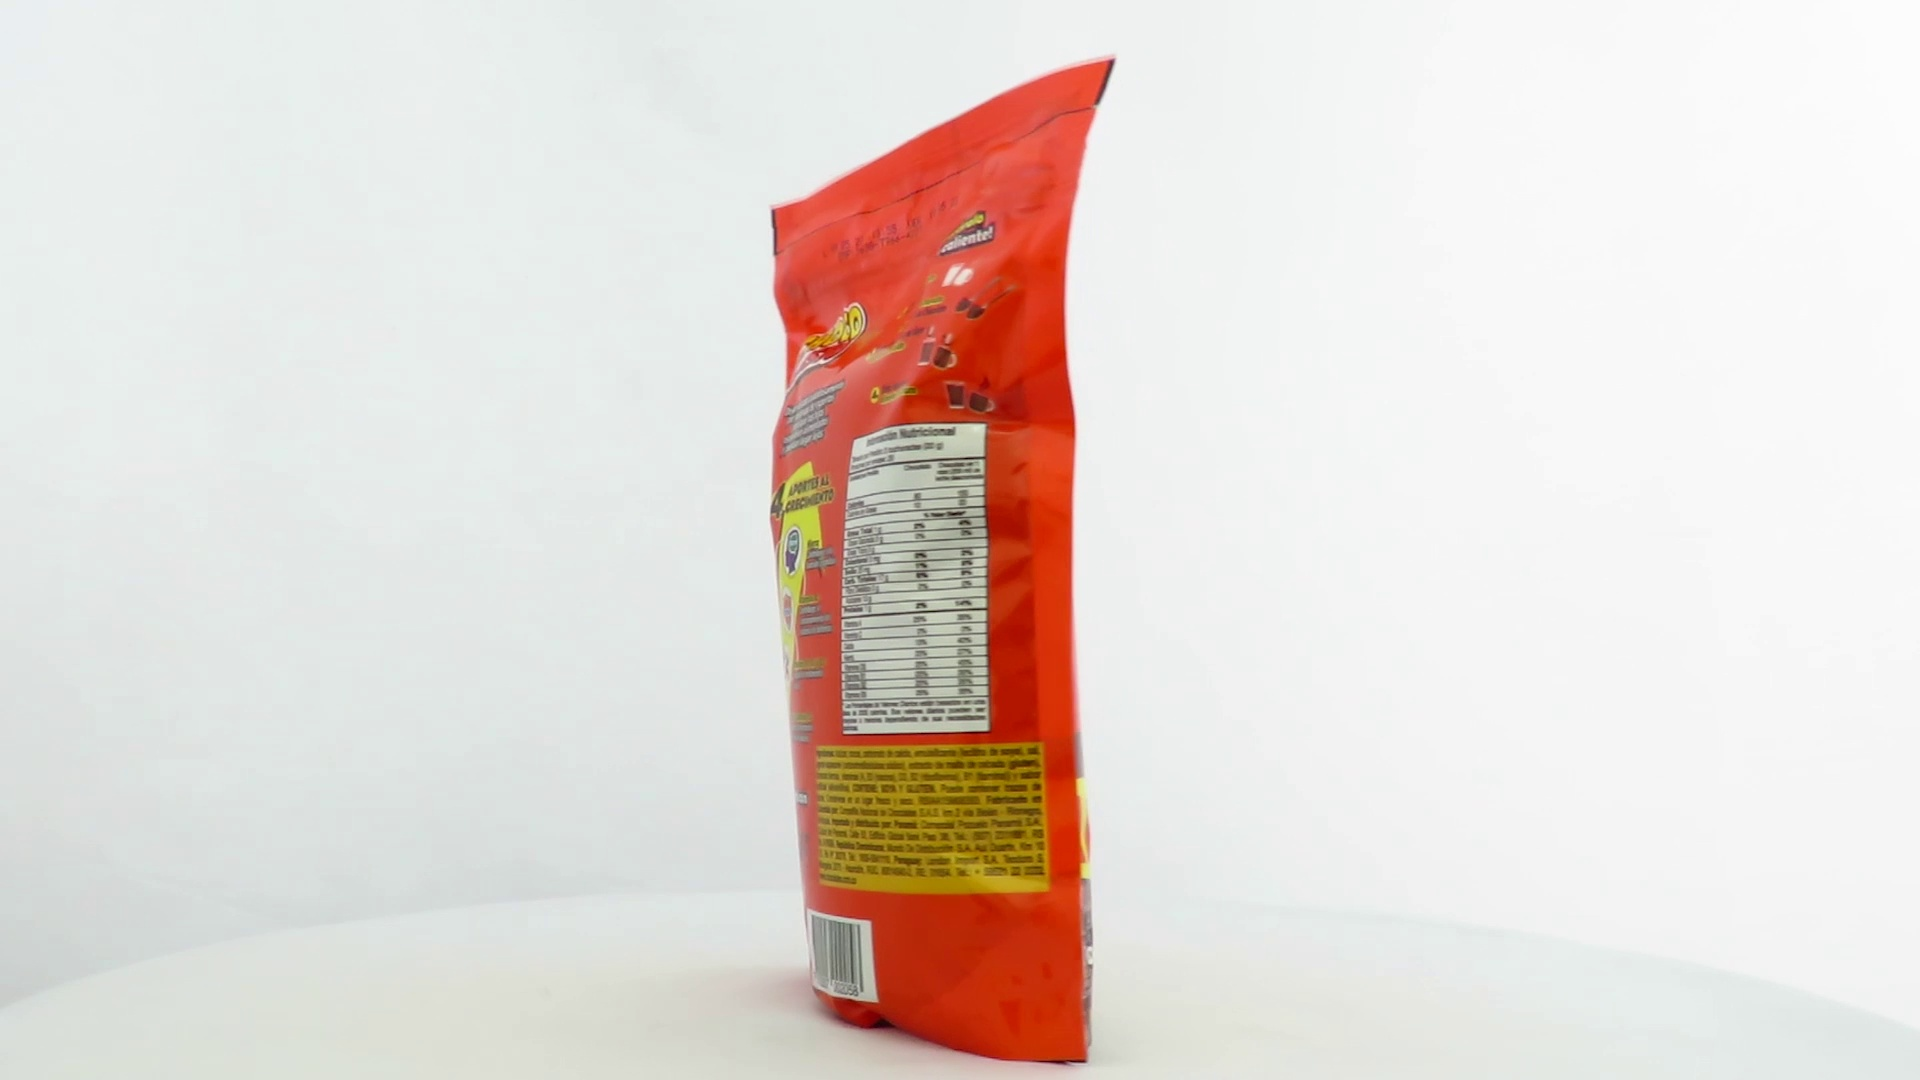COL0170103DYP40000: (765, 53, 1121, 1073)
